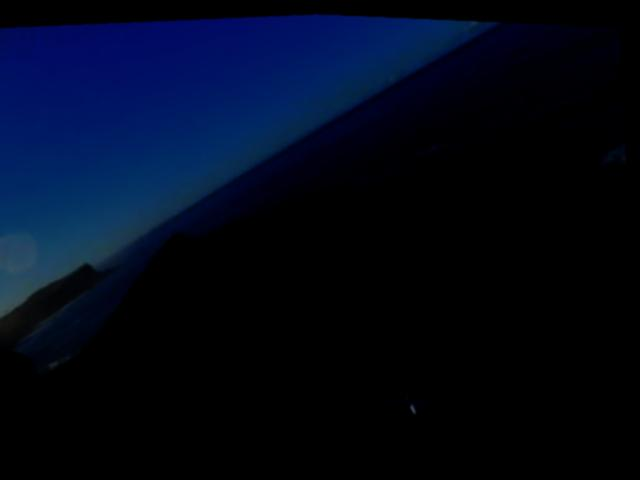uav: (364, 381, 461, 423)
